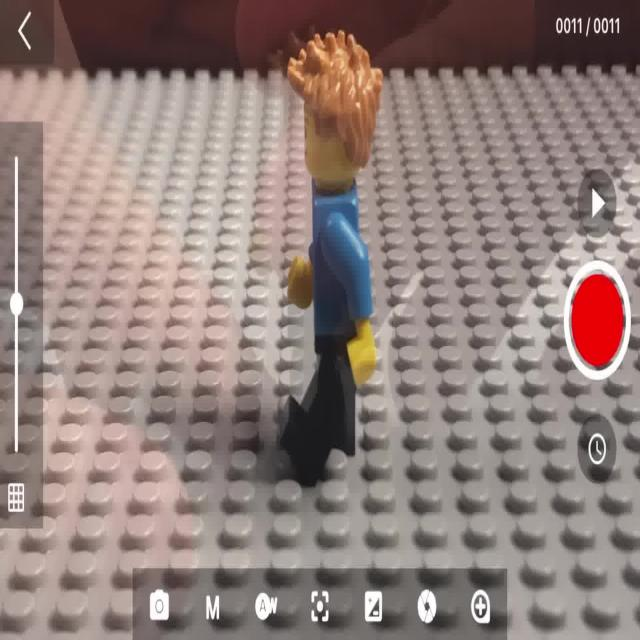4: (330, 203, 378, 381), (286, 242, 312, 320)
hand: (261, 18, 382, 485)
